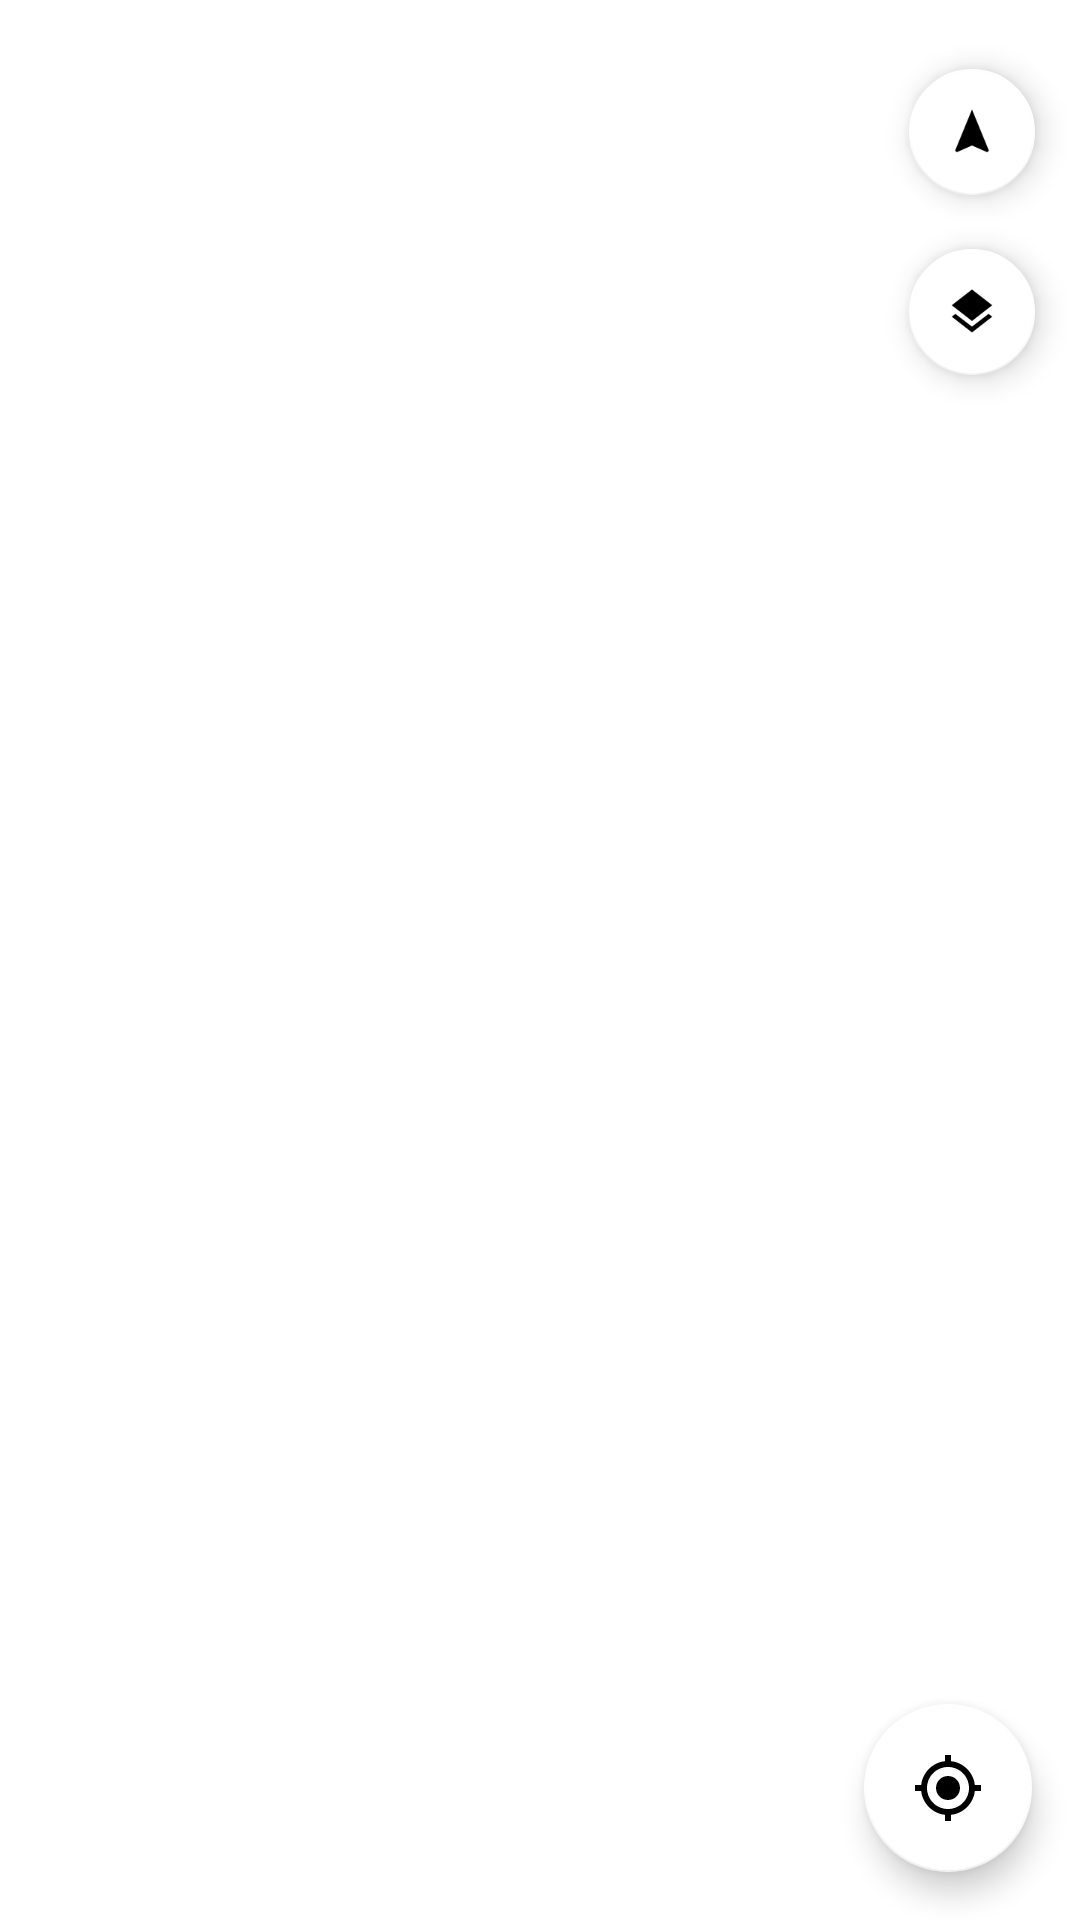

Icons on this 1080px×1920px Android screen, each with the point to tap as point (x, y):
gps fixed: point (925, 1788)
